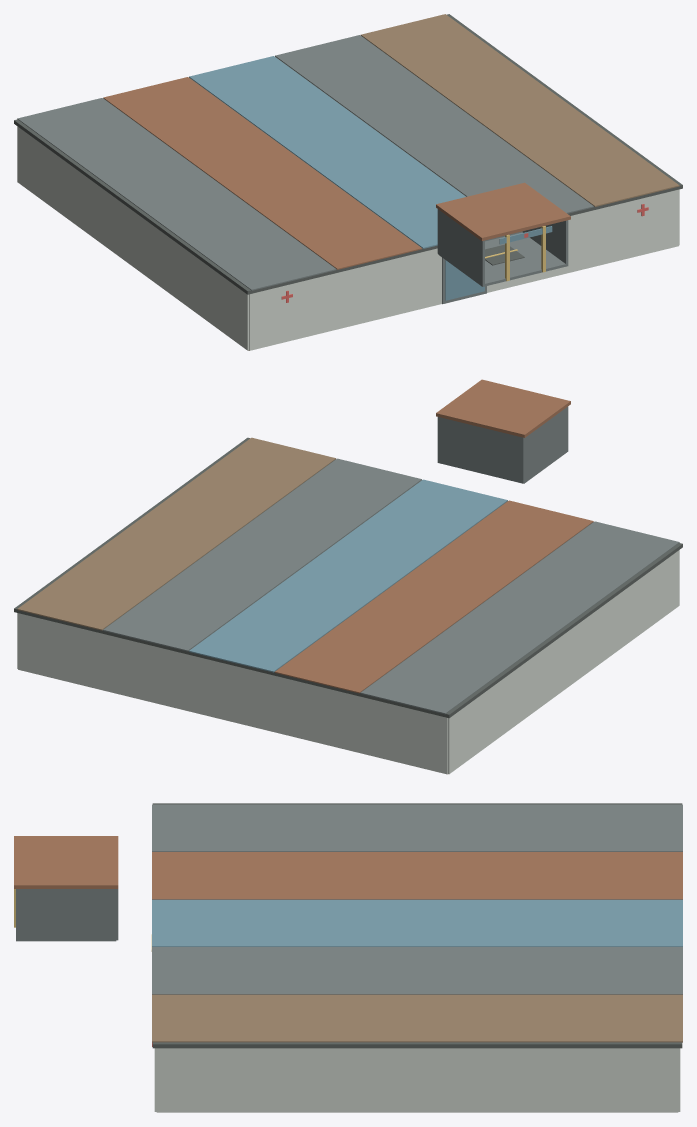
Rendered from shelter09_hospital.glb.
3 renders of one model, top to bottom at view 1: azimuth 30°, elevation 25°; view 2: azimuth 150°, elevation 25°; view 3: azimuth 270°, elevation 25°, orthographic. The views are drawn at different scales.
Visible parts, largest first — view 1: patched roof sheet.014, patched roof sheet.010, patched roof sheet.011, patched roof sheet.012, patched roof sheet.013, WALL_side.004, WALL_front.004, WALL_front.005, roof frame.002, surface entrance roof, WALL_surface side, FLOOR_surface entrance (+2 smaller); view 2: WALL_back.002, patched roof sheet.010, patched roof sheet.013, patched roof sheet.011, patched roof sheet.012, patched roof sheet.014, WALL_side.004, roof frame.002, surface entrance roof, WALL_surface back, WALL_surface side; view 3: WALL_side.005, patched roof sheet.014, patched roof sheet.010, patched roof sheet.011, patched roof sheet.012, patched roof sheet.013, surface entrance roof, WALL_surface side.001, roof frame.002.
Boxes of the visible parts, x1,y1,x2,y2 form: patched roof sheet.014: (360,14,679,206); patched roof sheet.010: (17,98,336,290); patched roof sheet.011: (103,77,421,269); patched roof sheet.012: (189,56,465,248); patched roof sheet.013: (275,35,593,213); WALL_side.004: (17,126,248,350); WALL_front.004: (249,248,441,350); WALL_front.005: (487,189,678,292); roof frame.002: (14,14,682,294); surface entrance roof: (436,182,570,240); WALL_surface side: (438,209,484,286); FLOOR_surface entrance: (438,232,568,286); WALL_back.002: (18,613,447,774); patched roof sheet.010: (360,521,679,714); patched roof sheet.013: (103,458,421,651); patched roof sheet.011: (275,500,593,693); patched roof sheet.012: (189,479,507,672); patched roof sheet.014: (17,437,336,630); WALL_side.004: (448,550,679,774); roof frame.002: (14,437,682,718); surface entrance roof: (436,379,570,437); WALL_surface back: (437,417,524,483); WALL_surface side: (525,406,568,481); WALL_side.005: (156,1048,678,1112); patched roof sheet.014: (152,994,682,1042); patched roof sheet.010: (152,804,682,851); patched roof sheet.011: (152,852,682,899); patched roof sheet.012: (152,899,682,946); patched roof sheet.013: (152,947,682,994); surface entrance roof: (14,836,118,888); WALL_surface side.001: (16,889,116,940); roof frame.002: (152,803,682,1048).
Size of the model in its own units: 28.4 by 7.32 by 33.33.
